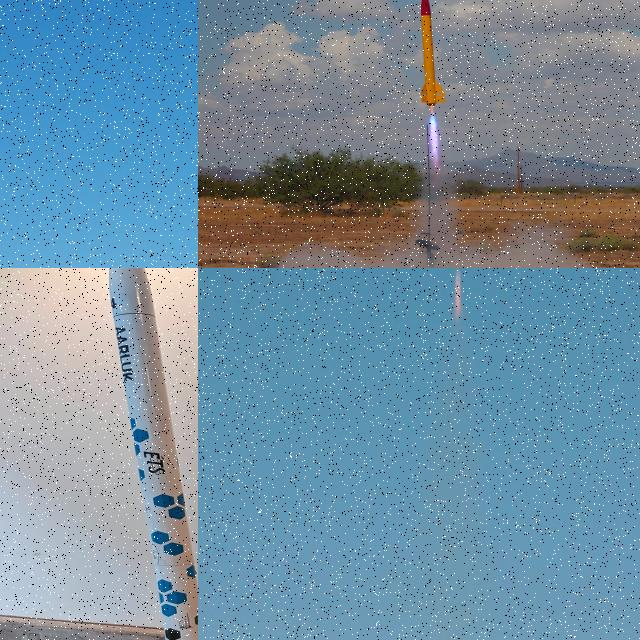Rocket: (109, 268, 198, 640), (420, 0, 446, 106)
